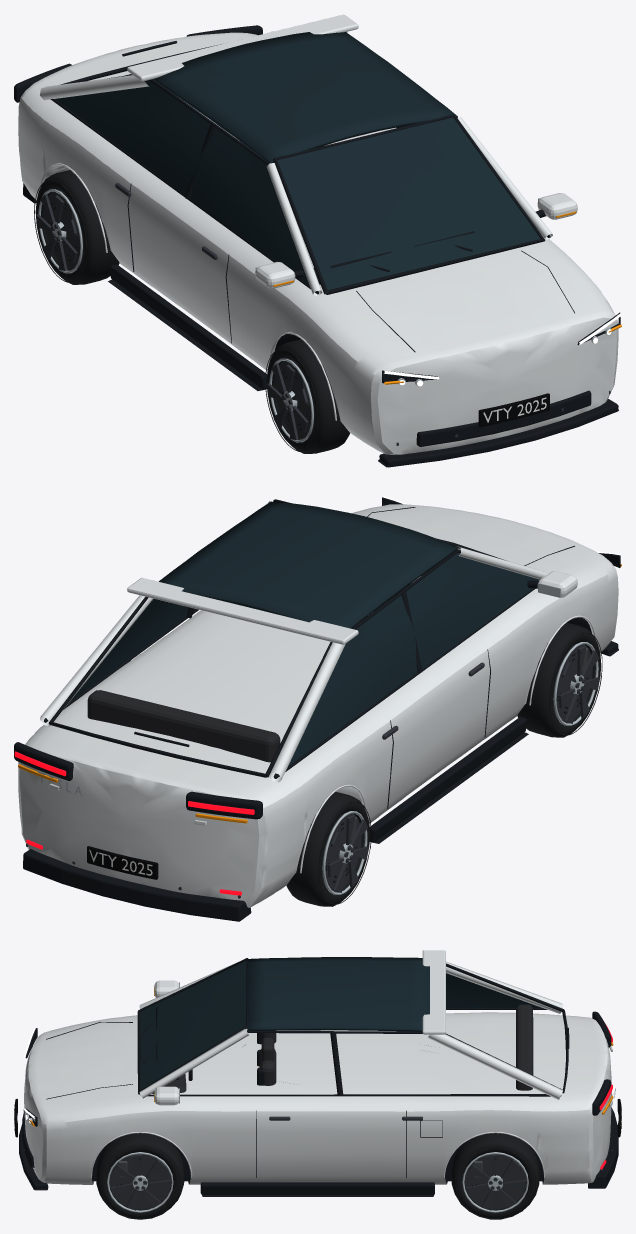
3 renders of one model, top to bottom at view 1: azimuth 30°, elevation 25°; view 2: azimuth 150°, elevation 25°; view 3: azimuth 270°, elevation 25°, orthographic. The views are drawn at different scales.
Visible parts, largest first — view 1: chassis.001__Automotive clearcoat, chassis.001__Solar glass, chassis.001__Satin black trim, wheel_RL.001__Tyre rubber, wheel_FL.001__Tyre rubber, wheel_RL.001__Graphite alloy, wheel_FL.001__Graphite alloy, chassis.001__Black registration plate, wheel_RL.001__Machined aluminium, wheel_FL.001__Machined aluminium; view 2: chassis.001__Automotive clearcoat, chassis.001__Solar glass, chassis.001__Satin black trim, chassis.001__Charcoal upholstery, wheel_FL.001__Tyre rubber, wheel_RL.001__Tyre rubber, wheel_FL.001__Graphite alloy, wheel_RL.001__Graphite alloy, chassis.001__Black registration plate, chassis.001__Red LED optics, wheel_RL.001__Machined aluminium, wheel_FL.001__Machined aluminium; view 3: chassis.001__Automotive clearcoat, chassis.001__Solar glass, chassis.001__Satin black trim, wheel_FR.001__Tyre rubber, wheel_RR.001__Tyre rubber, wheel_FR.001__Graphite alloy, wheel_RR.001__Graphite alloy, chassis.001__Charcoal upholstery, wheel_RR.001__Machined aluminium, wheel_FR.001__Machined aluminium.
Part boxes in pixels (bbox=[...]): chassis.001__Automotive clearcoat: bbox=[18, 14, 618, 454]; chassis.001__Solar glass: bbox=[55, 32, 540, 292]; chassis.001__Satin black trim: bbox=[14, 25, 620, 467]; wheel_RL.001__Tyre rubber: bbox=[34, 170, 119, 284]; wheel_FL.001__Tyre rubber: bbox=[265, 339, 349, 453]; wheel_RL.001__Graphite alloy: bbox=[36, 191, 83, 270]; wheel_FL.001__Graphite alloy: bbox=[267, 360, 314, 439]; chassis.001__Black registration plate: bbox=[478, 393, 549, 427]; wheel_RL.001__Machined aluminium: bbox=[38, 189, 82, 273]; wheel_FL.001__Machined aluminium: bbox=[269, 358, 313, 442]; chassis.001__Automotive clearcoat: bbox=[18, 501, 618, 907]; chassis.001__Solar glass: bbox=[69, 501, 539, 777]; chassis.001__Satin black trim: bbox=[14, 497, 620, 921]; chassis.001__Charcoal upholstery: bbox=[87, 572, 426, 762]; wheel_FL.001__Tyre rubber: bbox=[517, 622, 602, 737]; wheel_RL.001__Tyre rubber: bbox=[286, 791, 371, 906]; wheel_FL.001__Graphite alloy: bbox=[553, 643, 599, 723]; wheel_RL.001__Graphite alloy: bbox=[322, 812, 368, 892]; chassis.001__Black registration plate: bbox=[87, 846, 158, 879]; chassis.001__Red LED optics: bbox=[14, 751, 254, 895]; wheel_RL.001__Machined aluminium: bbox=[322, 811, 367, 894]; wheel_FL.001__Machined aluminium: bbox=[553, 642, 598, 725]; chassis.001__Automotive clearcoat: bbox=[24, 950, 611, 1184]; chassis.001__Solar glass: bbox=[140, 957, 541, 1090]; chassis.001__Satin black trim: bbox=[19, 958, 618, 1196]; wheel_FR.001__Tyre rubber: bbox=[96, 1133, 184, 1219]; wheel_RR.001__Tyre rubber: bbox=[451, 1133, 539, 1219]; wheel_FR.001__Graphite alloy: bbox=[109, 1154, 171, 1210]; wheel_RR.001__Graphite alloy: bbox=[464, 1154, 526, 1210]; chassis.001__Charcoal upholstery: bbox=[152, 1004, 533, 1093]; wheel_RR.001__Machined aluminium: bbox=[462, 1152, 528, 1212]; wheel_FR.001__Machined aluminium: bbox=[107, 1152, 173, 1212].
Size of the model in its own units: 2.24 by 1.64 by 4.95.
